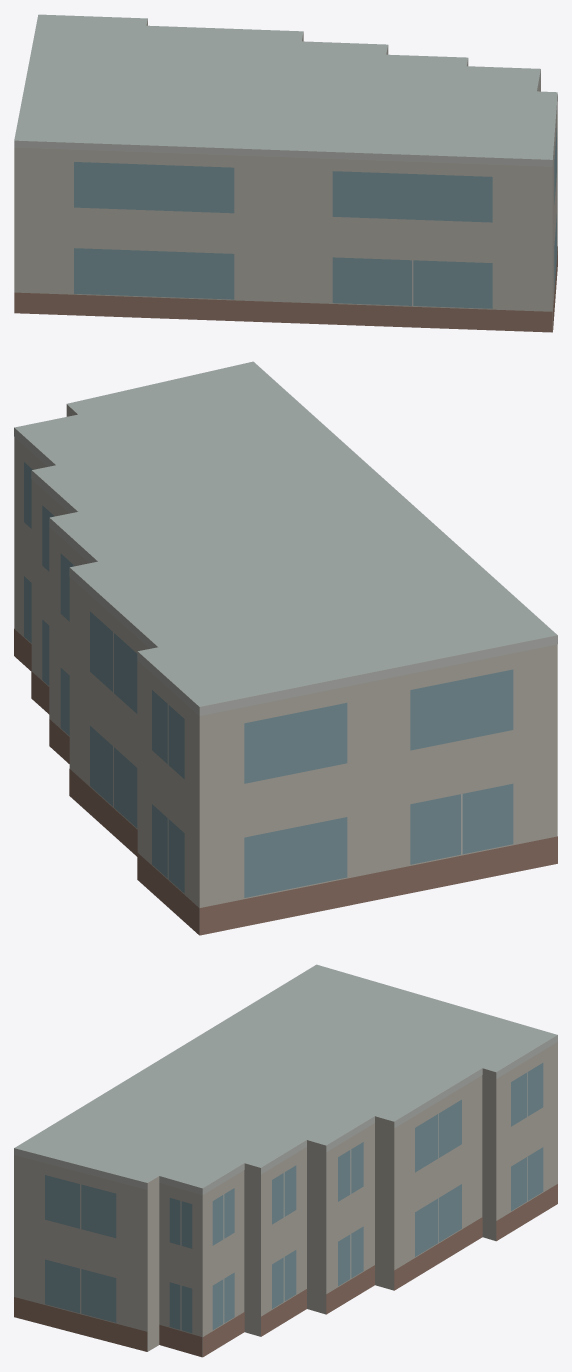
The model's file is survey-upis-32803321.glb.
3 renders of one model, top to bottom at view 1: azimuth 30°, elevation 25°; view 2: azimuth 150°, elevation 25°; view 3: azimuth 270°, elevation 25°, orthographic. The views are drawn at different scales.
Parts seen in each view (by area): view 1: survey-upis-32803321.tmp; view 2: survey-upis-32803321.tmp; view 3: survey-upis-32803321.tmp.
Boxes of the visible parts, x1,y1,x2,y2 form: survey-upis-32803321.tmp: [14, 14, 557, 332]; survey-upis-32803321.tmp: [14, 361, 557, 935]; survey-upis-32803321.tmp: [14, 964, 557, 1357].
Bounding box in the file's own units: 17.35 × 6.1 × 17.8.
